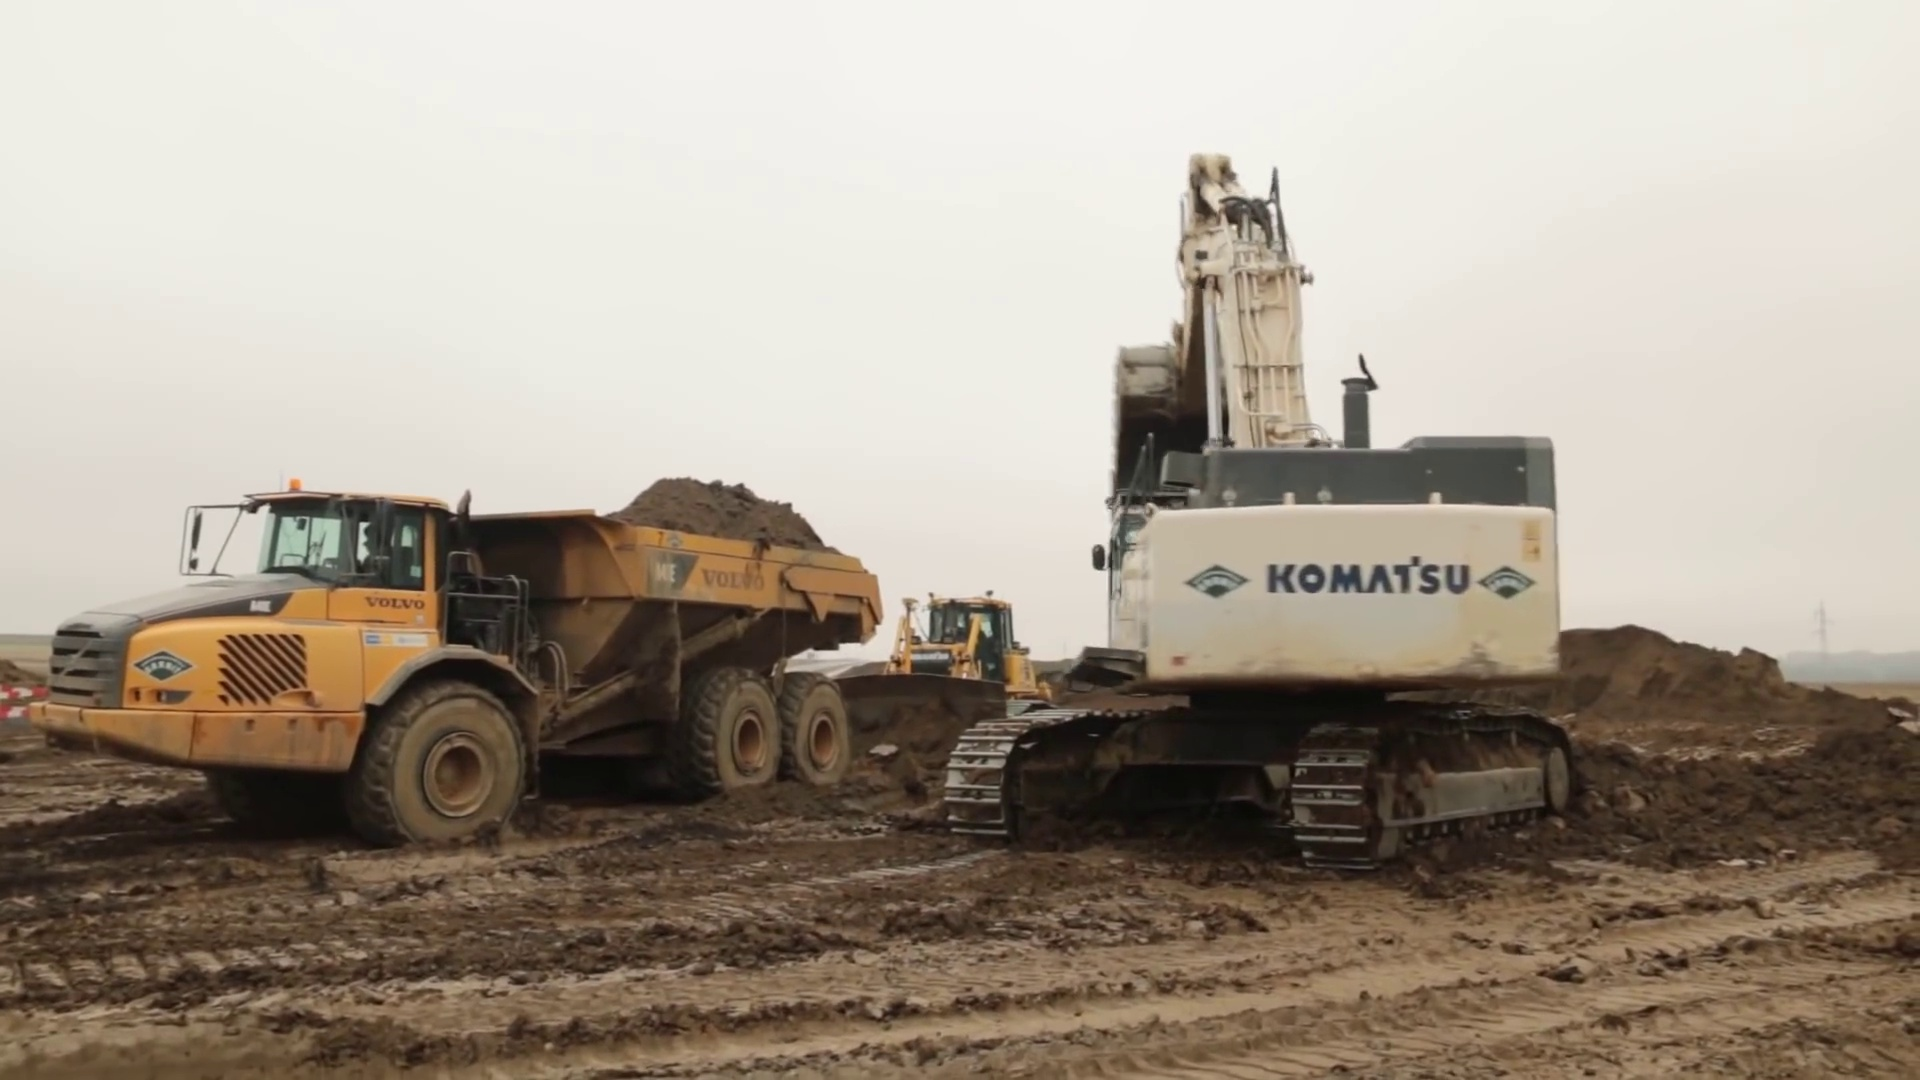bulldozer: (864, 592, 1062, 742)
dumper: (30, 472, 884, 851)
excavator: (945, 149, 1592, 872)
